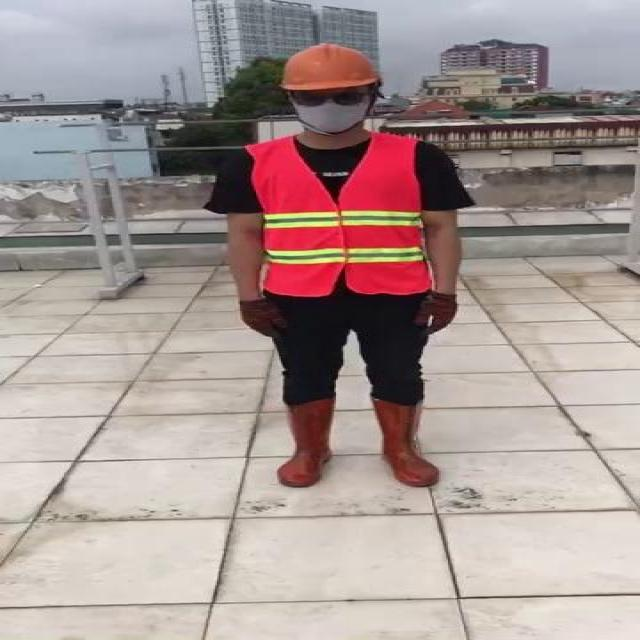boots: (370, 397, 439, 488), (277, 400, 336, 489)
face_mask: (284, 84, 372, 135)
glasses: (284, 81, 374, 112)
hand_glove: (240, 299, 286, 338), (414, 295, 459, 334)
head_helmet: (266, 36, 386, 96)
person: (212, 38, 458, 498)
vest: (252, 134, 430, 295)
